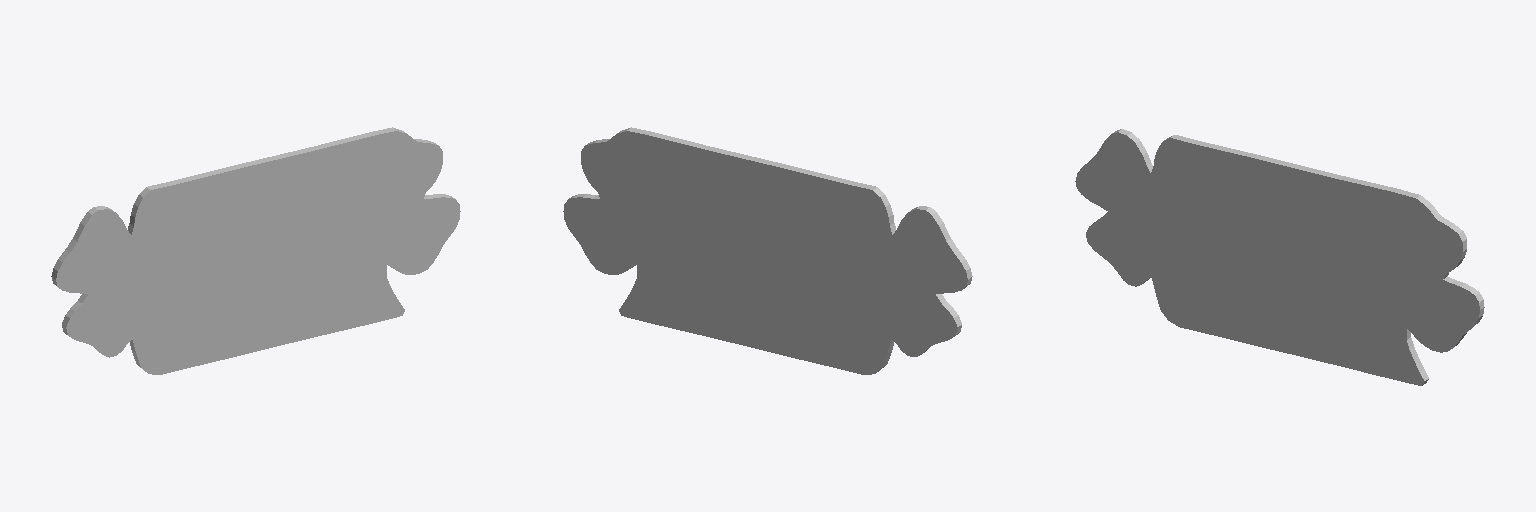
Rendered from Names_Mesh.obj.
The picture shows the model from 3 angles: view 1: azimuth 30°, elevation 25°; view 2: azimuth 150°, elevation 25°; view 3: azimuth 330°, elevation 25°; orthographic projection.
Visible parts, largest first — view 1: Trifili; view 2: Trifili; view 3: Trifili.
Boxes of the visible parts, <box> form: Trifili: <box>51,127,460,374</box>; Trifili: <box>563,127,972,374</box>; Trifili: <box>1075,129,1484,385</box>.
Bounding box in the file's own units: 236 × 105 × 4.61.